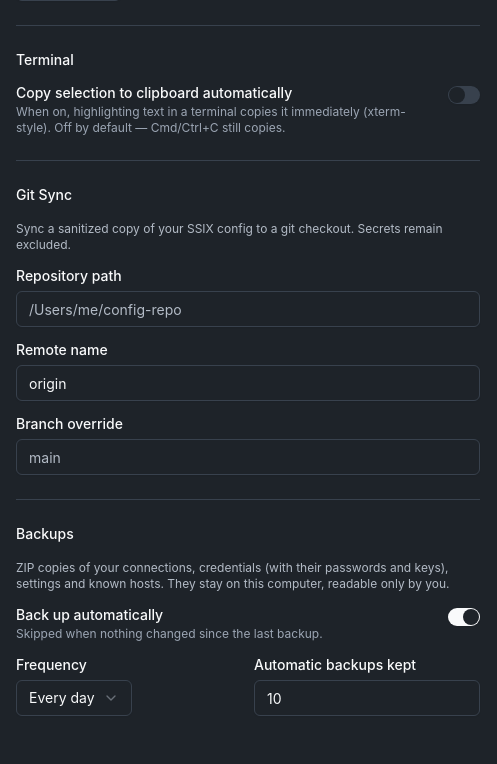
Test: SettingsPanel › debounced persistence › reports a validation error for the final state even when an earlier edit was superseded
(page scrolled)
Type "--bad" into the field labelled "Remote name" at [248, 383], box [16,365,480,401]
(page scrolled)
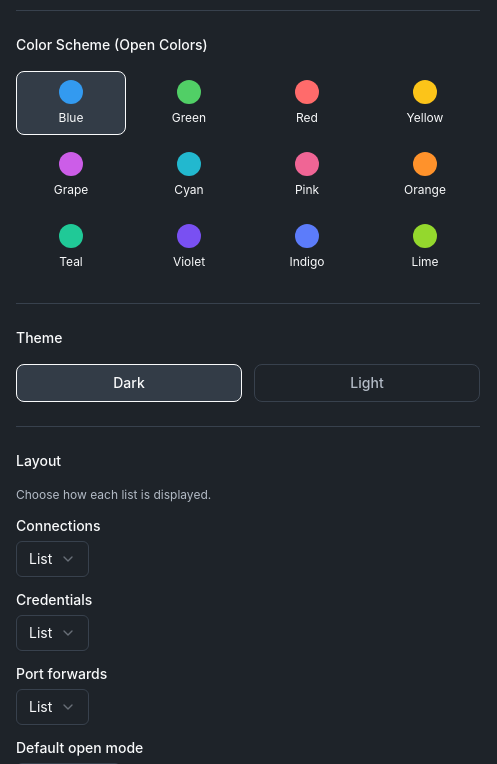
Click the radio button labelled "light" at [367, 383], box [254,364,480,402]
Wait 300 ms
(page scrolled)
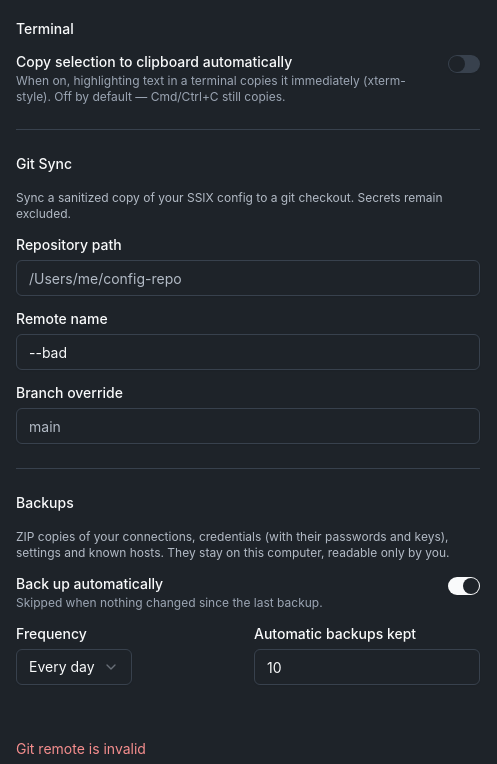
Expected: the message reads "Git remote is invalid", [16,740,146,757]
